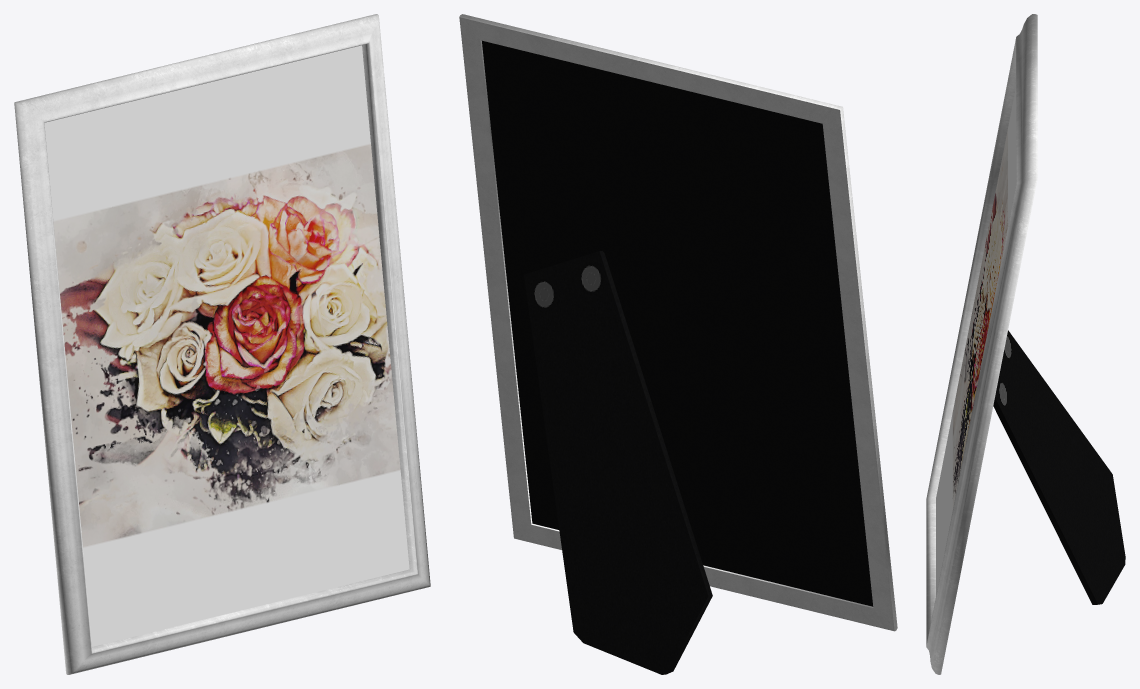
File: PhotoFrame01_1B.FBX
3 views of the same model, side by side, from view 1: azimuth 30°, elevation 25°; view 2: azimuth 150°, elevation 25°; view 3: azimuth 270°, elevation 25° (orthographic). The views are drawn at different scales.
Parts seen in each view (by area): view 1: PhotoFrame01_1B; view 2: PhotoFrame01_1B; view 3: PhotoFrame01_1B.
Boxes of the visible parts, x1,y1,x2,y2 form: PhotoFrame01_1B: (14,14,430,674); PhotoFrame01_1B: (459,14,897,674); PhotoFrame01_1B: (926,14,1125,674).
Bounding box in the file's own units: 0.1148 × 0.1617 × 0.0588.
